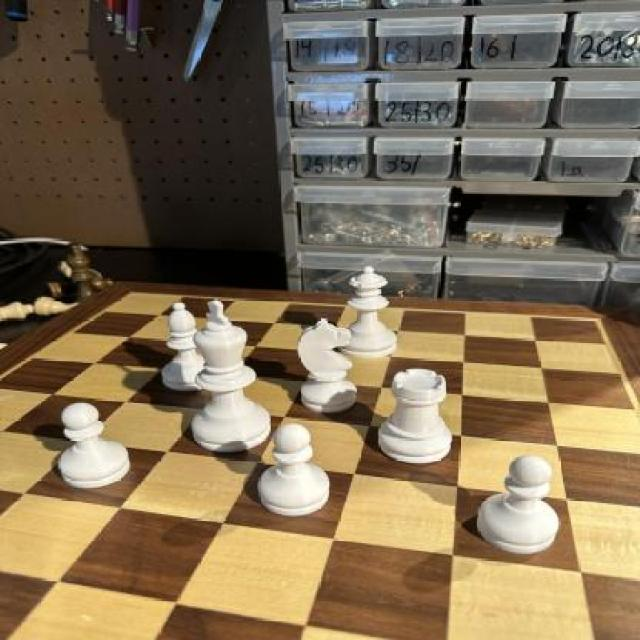black-rook: (160, 294, 211, 395)
white-bishop: (191, 296, 274, 452)
white-king: (291, 314, 361, 421)
white-knight: (475, 455, 567, 560), (258, 424, 336, 518), (48, 403, 132, 489)
white-pawn: (334, 263, 402, 361)
white-queen: (378, 363, 451, 468)
